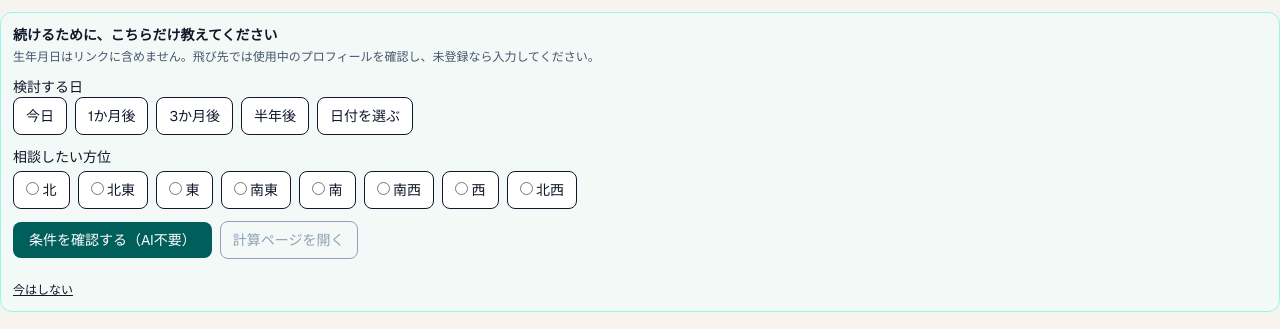
Test: 検討日はチップで選んで送る
What coordinates should you click on to do the following:
click the button "今日"
I would click on:
 (40, 116)
Its box is [13, 97, 67, 135].
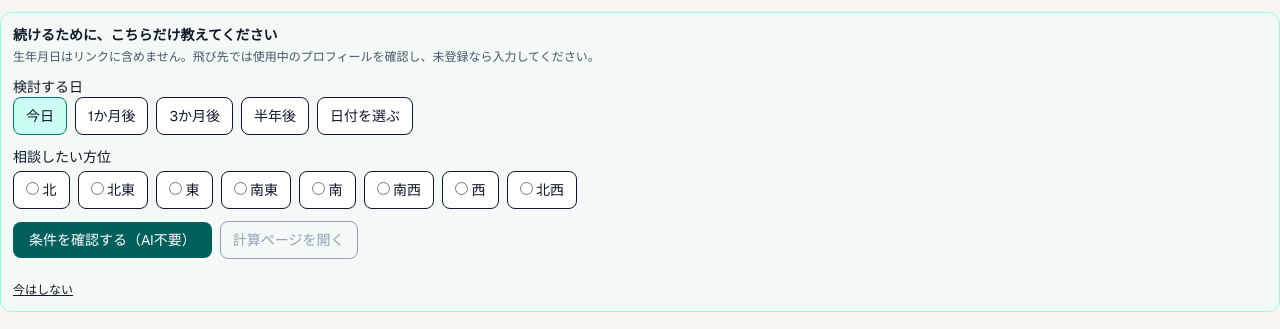
What coordinates should you click on to do the following:
click the radio button labelled "東"
I would click on:
 (176, 188)
Its box is [169, 182, 182, 195].
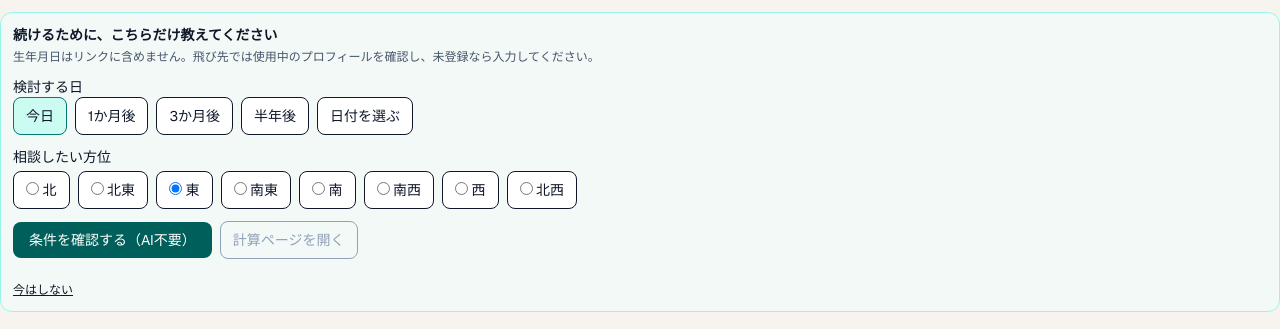
What coordinates should you click on to do the following:
click the button "条件を確認する（AI不要）"
I would click on:
 (112, 240)
Its box is [13, 222, 212, 258].
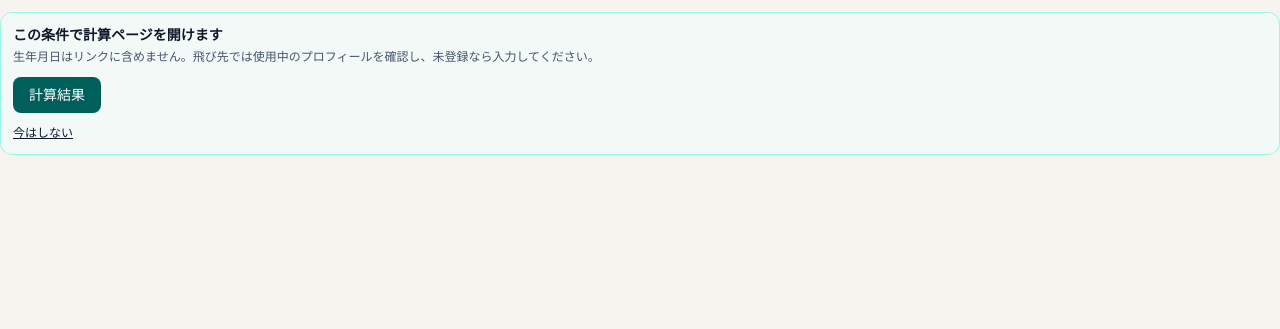
Check: the link "計算結果" is shown, box [13, 77, 101, 113]
